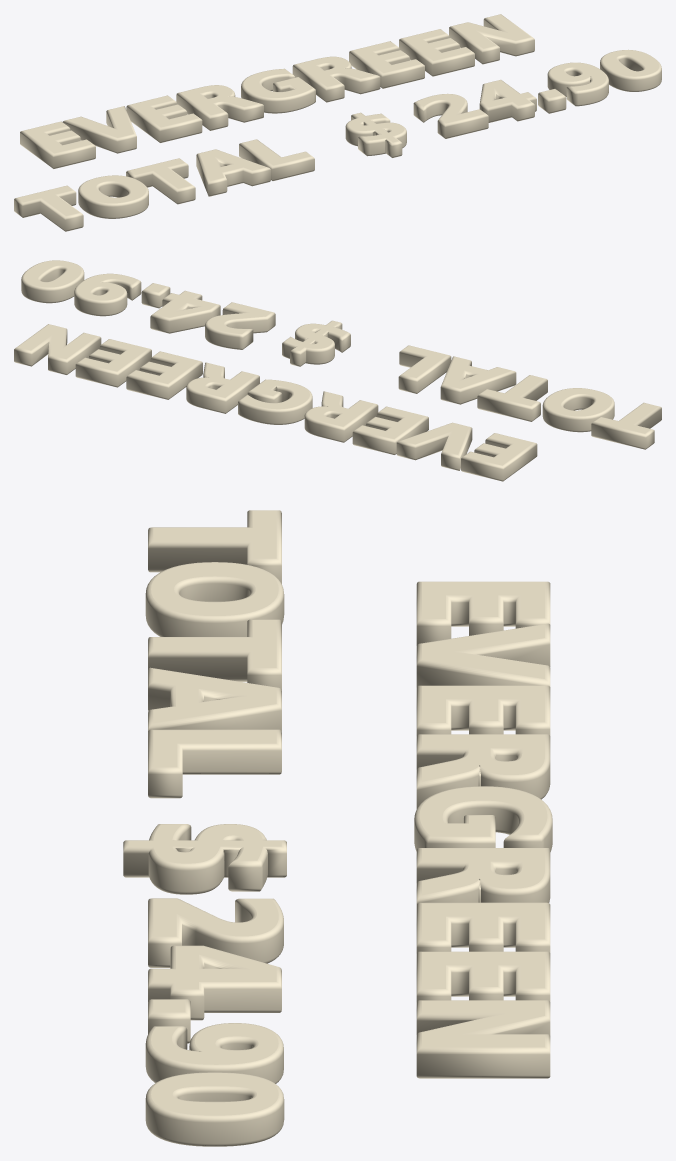
File: SM_EG_Checkout_interface_a833c8d388.fbx
The picture shows the model from 3 angles, top to bottom: view 1: azimuth 30°, elevation 25°; view 2: azimuth 150°, elevation 25°; view 3: azimuth 270°, elevation 25°; orthographic projection. The views are drawn at different scales.
Parts seen in each view (by area): view 1: SM_EG_Checkout_interface_a833c8d388; view 2: SM_EG_Checkout_interface_a833c8d388; view 3: SM_EG_Checkout_interface_a833c8d388.
Boxes of the visible parts, bbox=[...] form: SM_EG_Checkout_interface_a833c8d388: bbox=[14, 14, 661, 231]; SM_EG_Checkout_interface_a833c8d388: bbox=[14, 260, 661, 481]; SM_EG_Checkout_interface_a833c8d388: bbox=[123, 510, 552, 1146].
Size of what is drawn, in the model's own units: 18.79 by 5.6 by 0.44.
